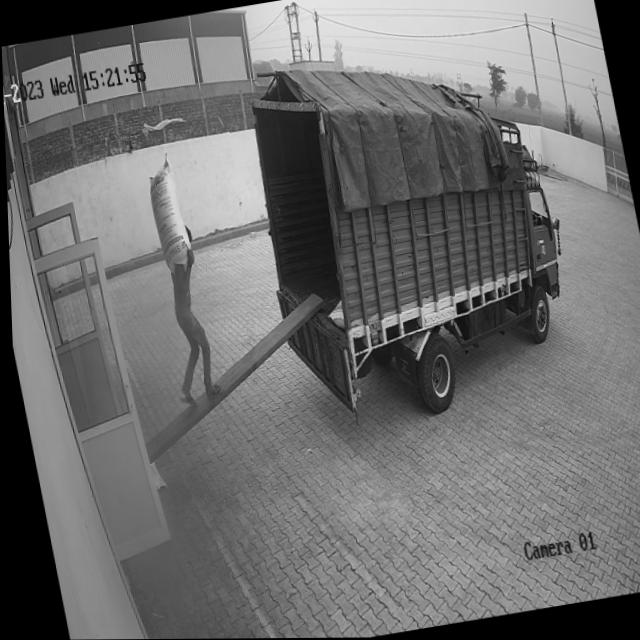sack: (140, 152, 194, 273)
